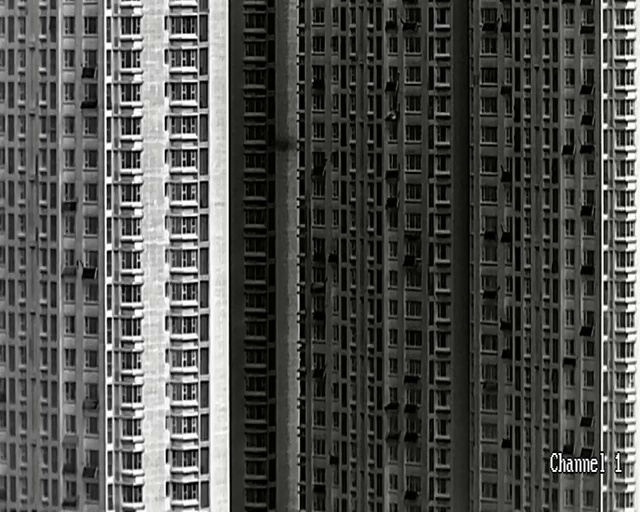uav: (279, 143, 296, 150)
